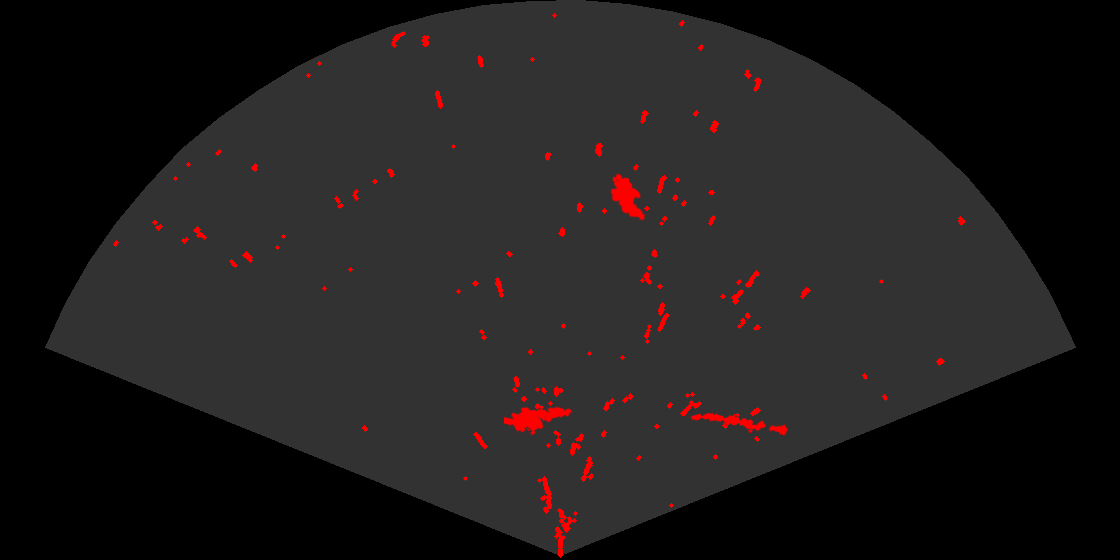AUV: (609, 172, 647, 222)
chain: (689, 411, 790, 437)
frogman: (504, 405, 573, 437)
